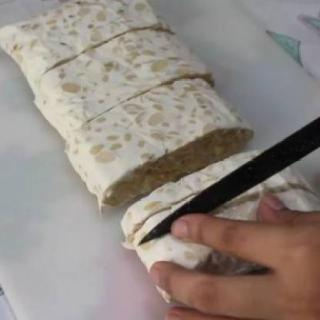Tempe: (1, 1, 259, 208)
